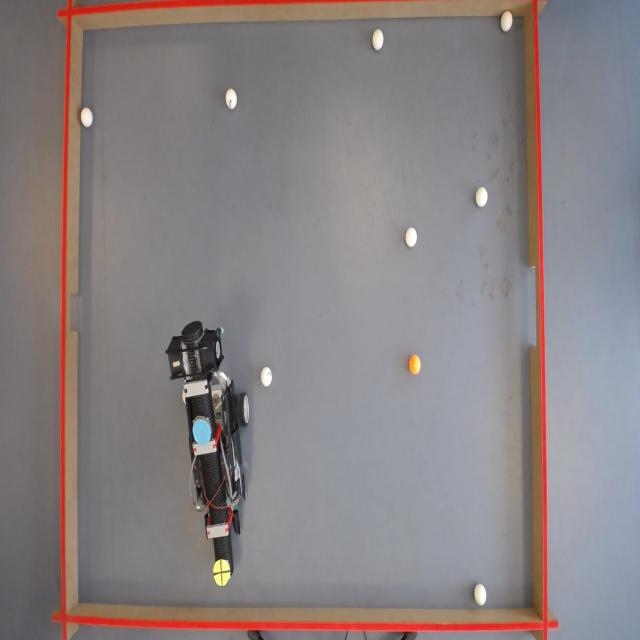orange: (409, 354, 423, 374)
robot: (170, 325, 255, 589)
robot-front: (213, 558, 231, 588)
robot-rear: (191, 416, 210, 446)
white: (475, 584, 489, 608), (372, 29, 386, 51), (224, 89, 237, 110), (500, 10, 512, 32), (80, 107, 93, 127), (476, 188, 489, 208), (406, 228, 418, 248), (262, 368, 274, 388)
